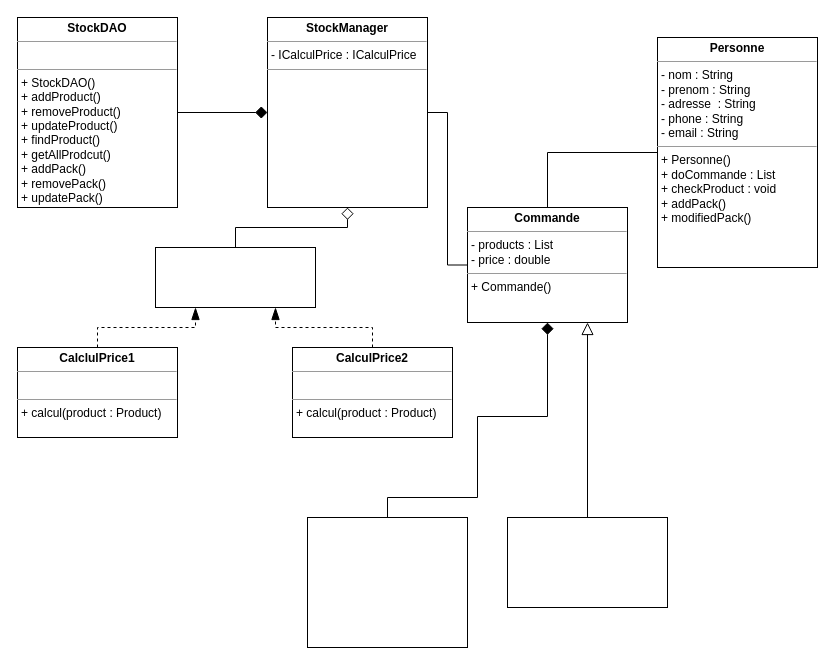
This 835x665 diagram has some shape labels left out. The shapes that lost their labels are listed below. From the top down, each one's box as (x1, y1, x2, y2) in pixels, then its label:
(154, 246, 316, 308): ICalculPrice + calcul(product : Product)
(306, 516, 468, 648): Product - id : int - nom : String - prix : double - quantité : int + Produit()
(506, 516, 668, 608): PackCadeau - nom : String + PackCadeau()
